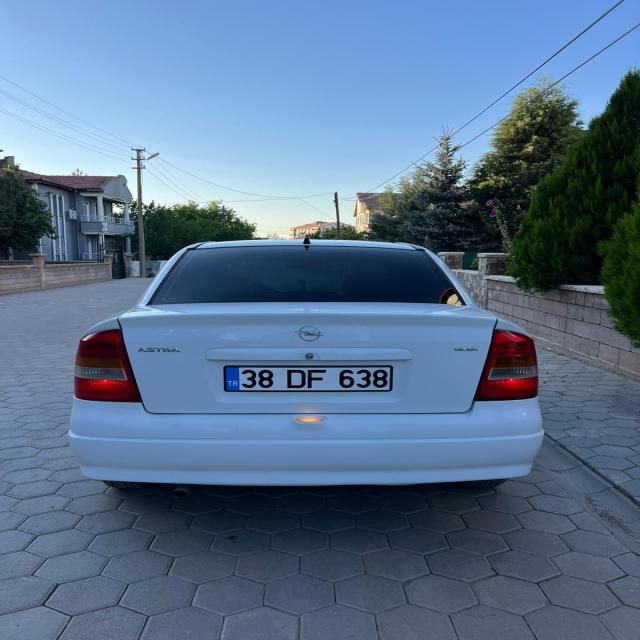opel: (293, 324, 325, 344)
